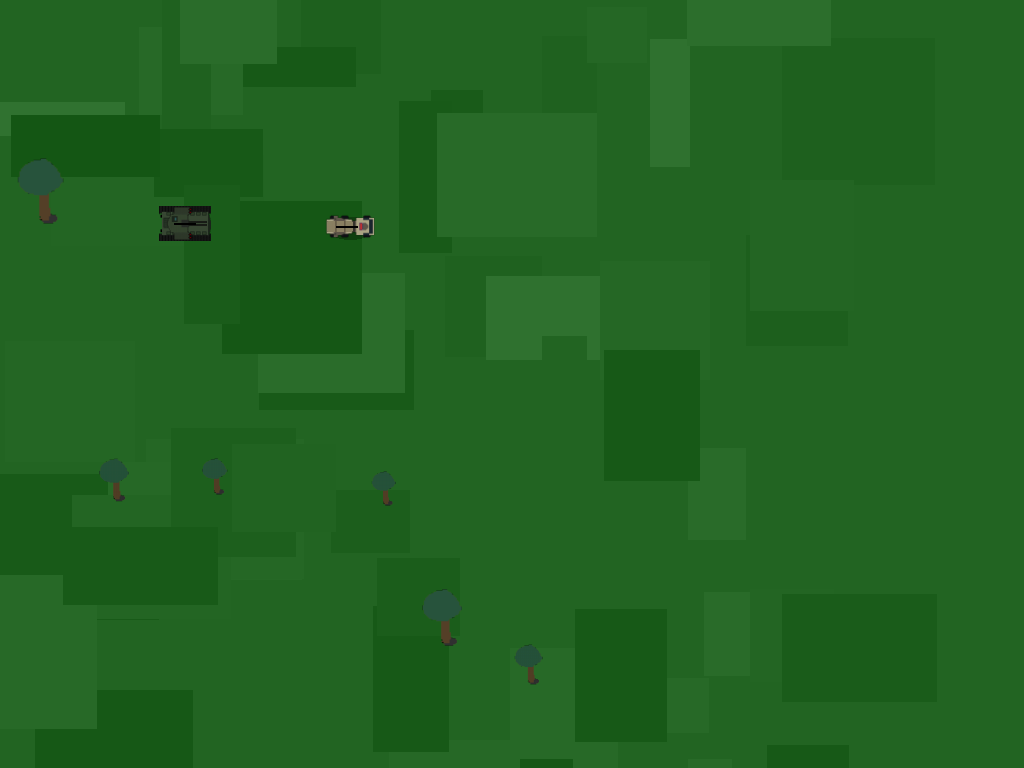ArmoredCar: (323, 201, 372, 250)
Mi24: (162, 200, 206, 244)
